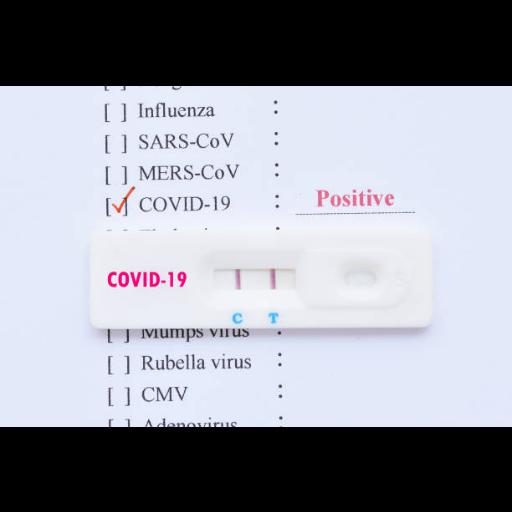Pos: (92, 232, 432, 324)
